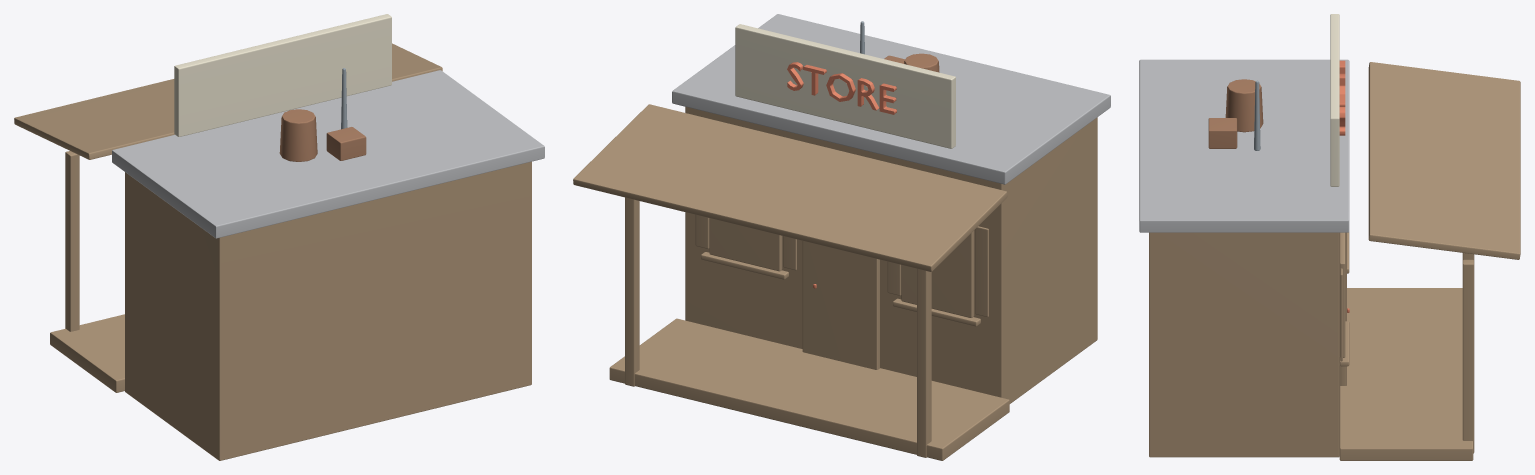
The model's file is shopfront_1_store.glb.
3 renders of one model, left to right at view 1: azimuth 30°, elevation 25°; view 2: azimuth 150°, elevation 25°; view 3: azimuth 270°, elevation 25°, orthographic.
Parts seen in each view (by area): view 1: shopfront_1_store; view 2: shopfront_1_store; view 3: shopfront_1_store.
Part boxes in pixels (x1,y1,x2,y2): shopfront_1_store: [14, 14, 544, 460]; shopfront_1_store: [573, 14, 1110, 460]; shopfront_1_store: [1139, 14, 1520, 460].
Bounding box in the file's own units: 4.3 × 3.65 × 4.
